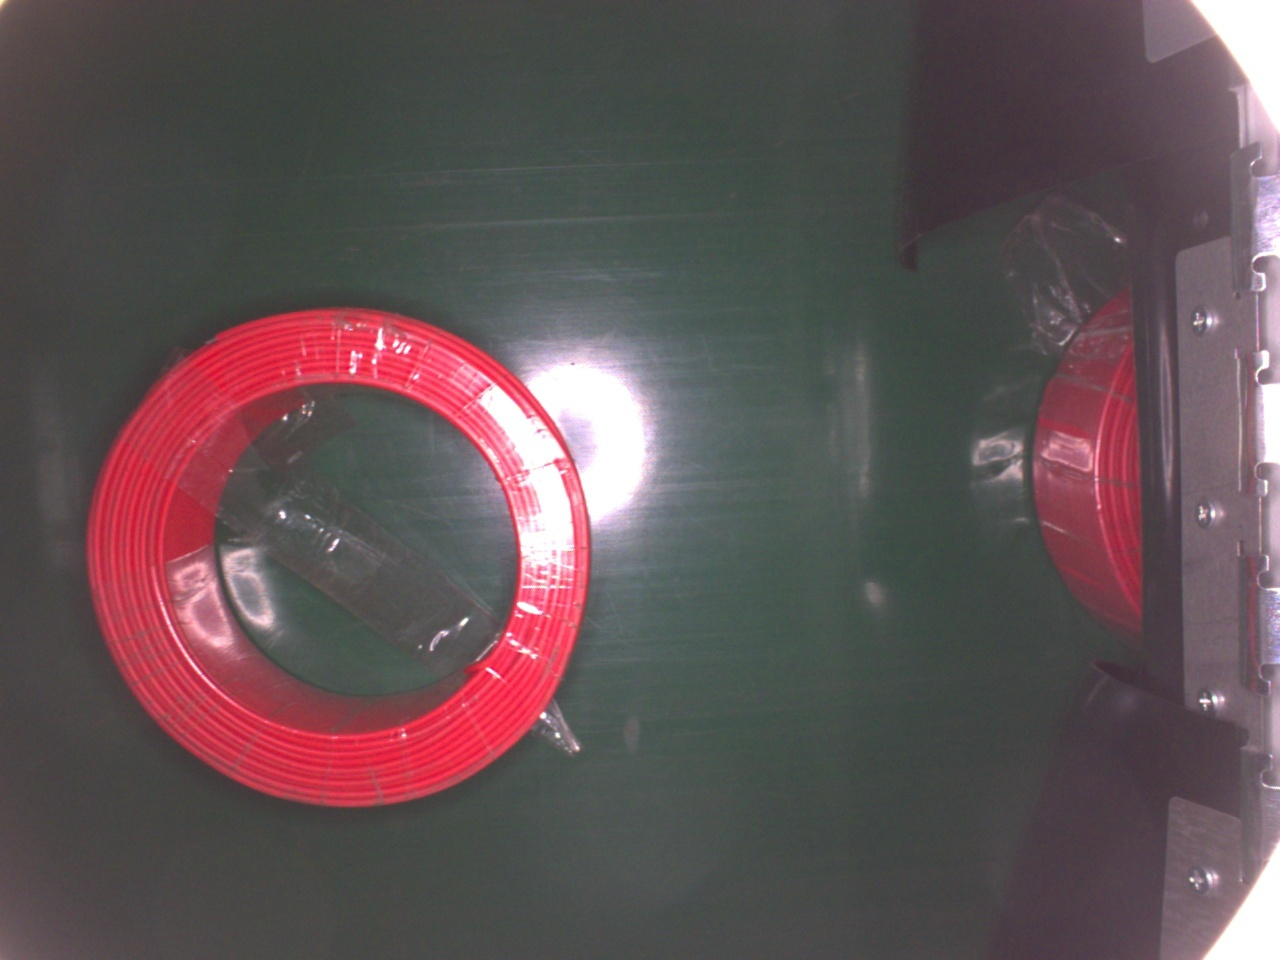red: (85, 304, 592, 810)
